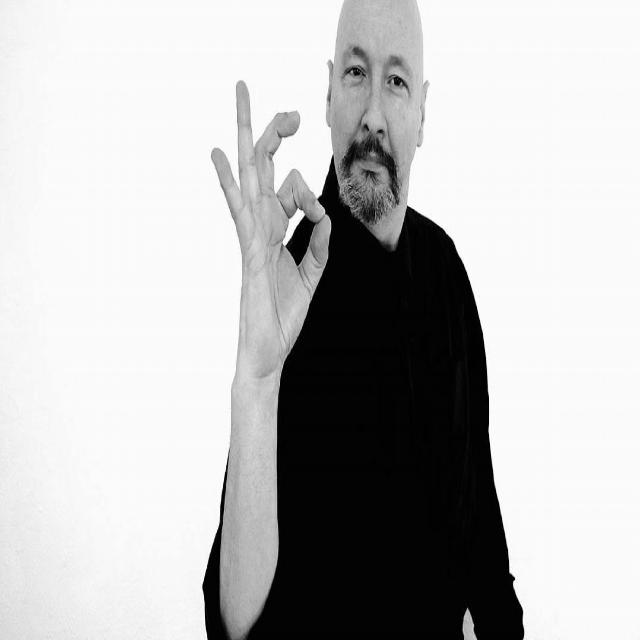perfect: (205, 68, 334, 399)
